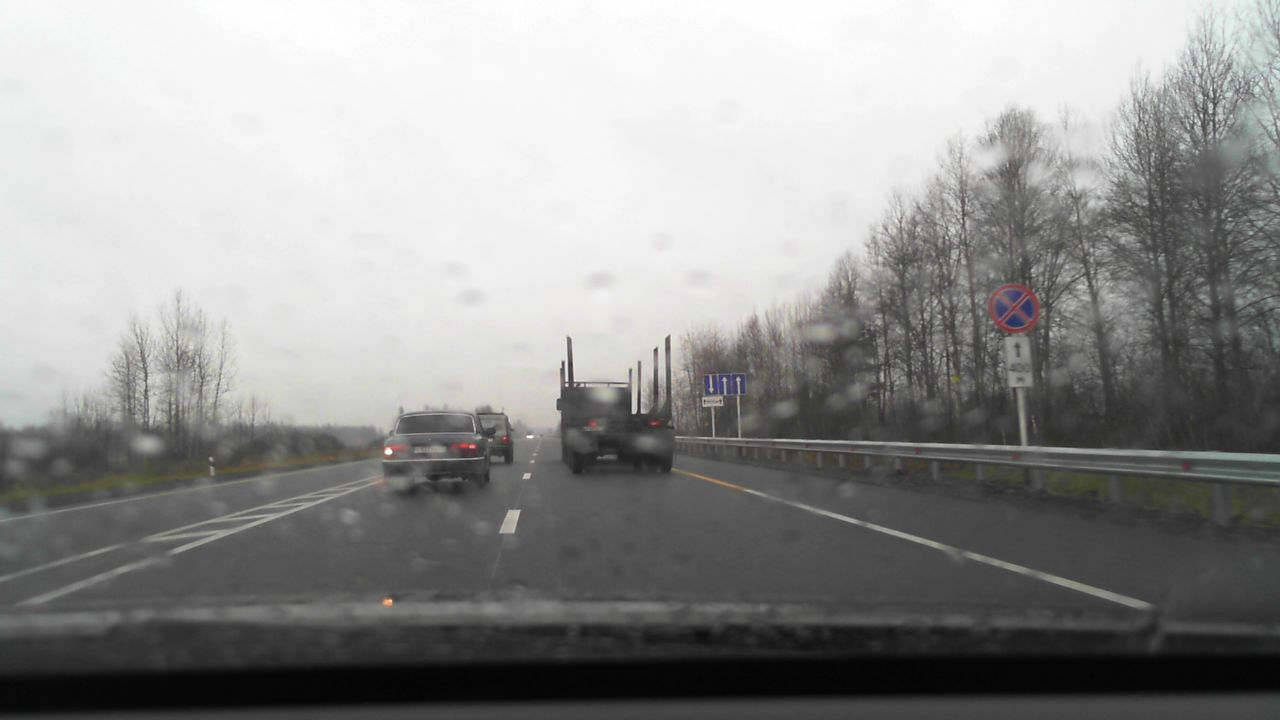No Parking: (987, 283, 1039, 333)
